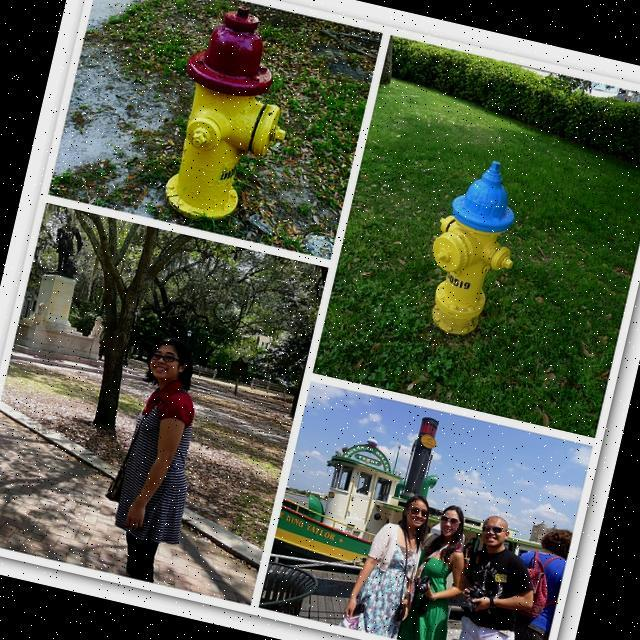fire_hydrant: (151, 0, 311, 236), (410, 150, 536, 346)
